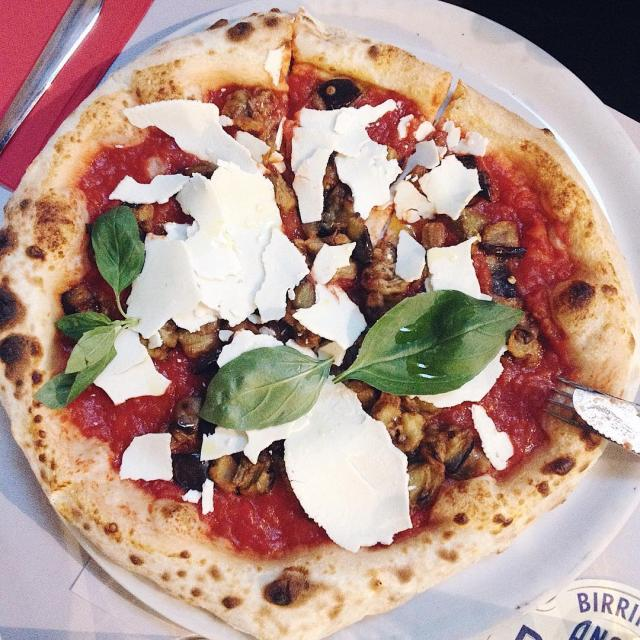basil: (335, 290, 523, 395), (31, 306, 145, 412), (200, 345, 331, 431), (90, 204, 153, 321)
pizza: (0, 8, 640, 640)
